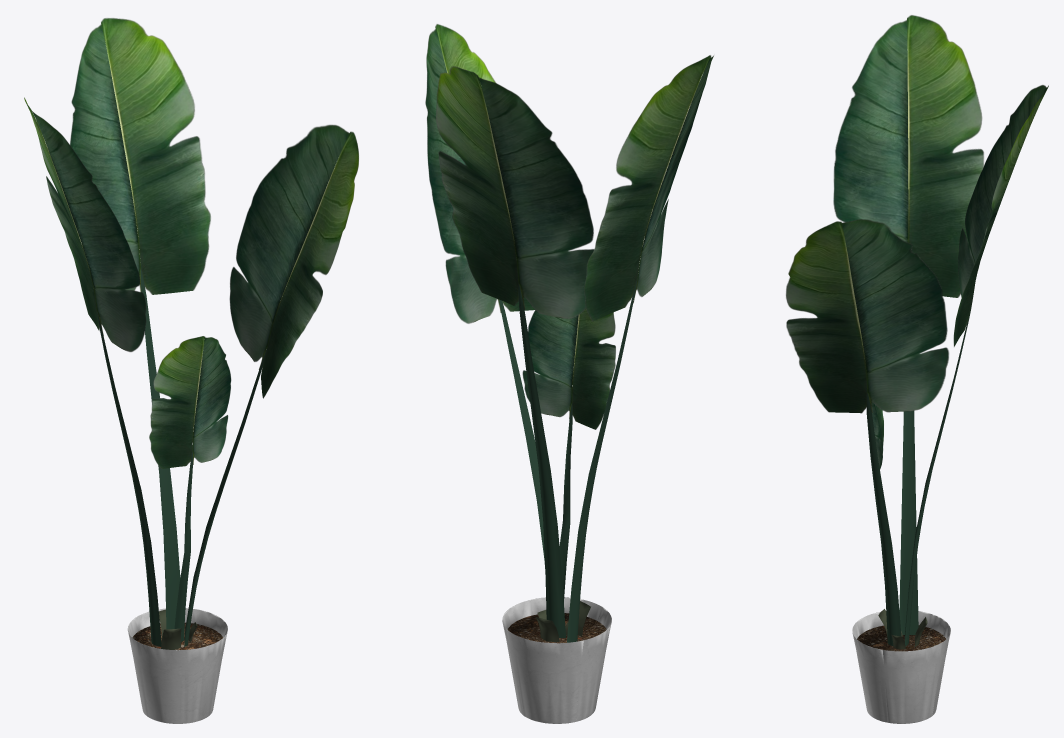
File: plant.glb
The picture shows the model from 3 angles, left to right: view 1: azimuth 30°, elevation 25°; view 2: azimuth 150°, elevation 25°; view 3: azimuth 270°, elevation 25°; orthographic projection. The views are drawn at different scales.
Visible parts, largest first — view 1: Cylinder_Material.008_0; view 2: Cylinder_Material.008_0; view 3: Cylinder_Material.008_0.
Boxes of the visible parts, bbox=[...] form: Cylinder_Material.008_0: bbox=[24, 18, 358, 723]; Cylinder_Material.008_0: bbox=[425, 24, 713, 723]; Cylinder_Material.008_0: bbox=[786, 15, 1048, 723].
Size of the model in its own units: 0.0055 by 0.0116 by 0.00493.
5 materials, 3 textured.
